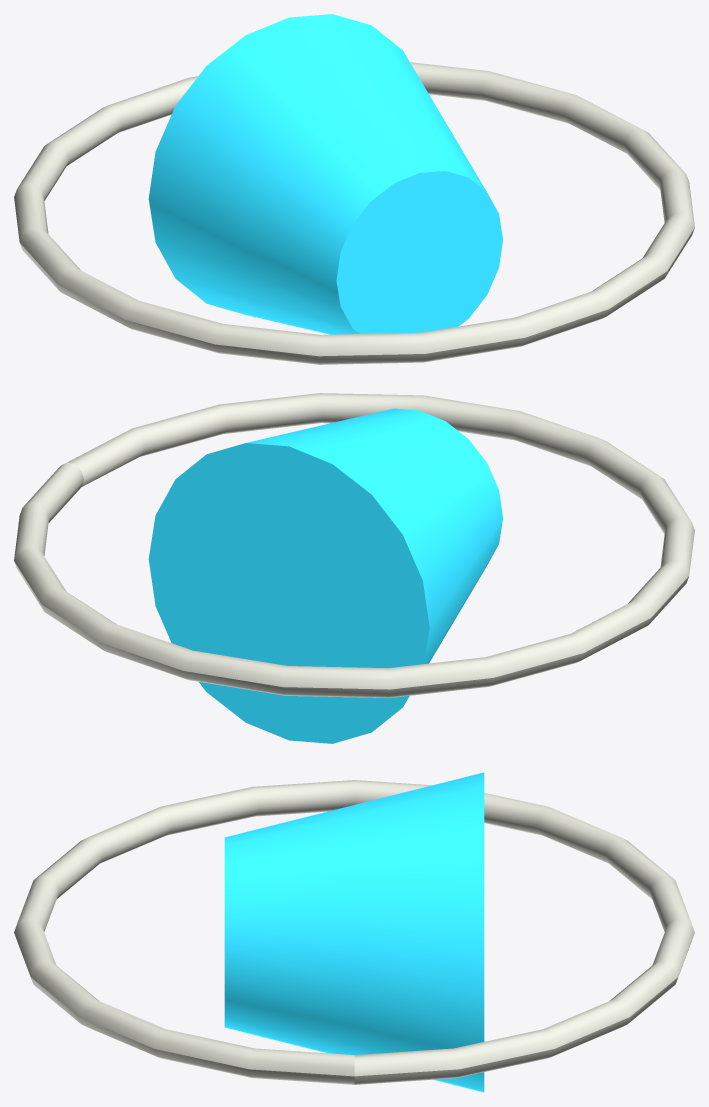
Rendered from pickup-coolant.glb.
The picture shows the model from 3 angles, top to bottom: view 1: azimuth 30°, elevation 25°; view 2: azimuth 150°, elevation 25°; view 3: azimuth 270°, elevation 25°; orthographic projection.
Visible parts, largest first — view 1: pickup_core, capture_ring; view 2: pickup_core, capture_ring; view 3: pickup_core, capture_ring.
Boxes of the visible parts, x1=… form: pickup_core: x1=148, y1=14, x2=502, y2=334; capture_ring: x1=14, y1=62, x2=694, y2=364; pickup_core: x1=148, y1=408, x2=502, y2=743; capture_ring: x1=14, y1=393, x2=694, y2=698; pickup_core: x1=224, y1=772, x2=484, y2=1092; capture_ring: x1=14, y1=780, x2=694, y2=1084.
Bounding box in the file's own units: 498 × 236 × 498.
